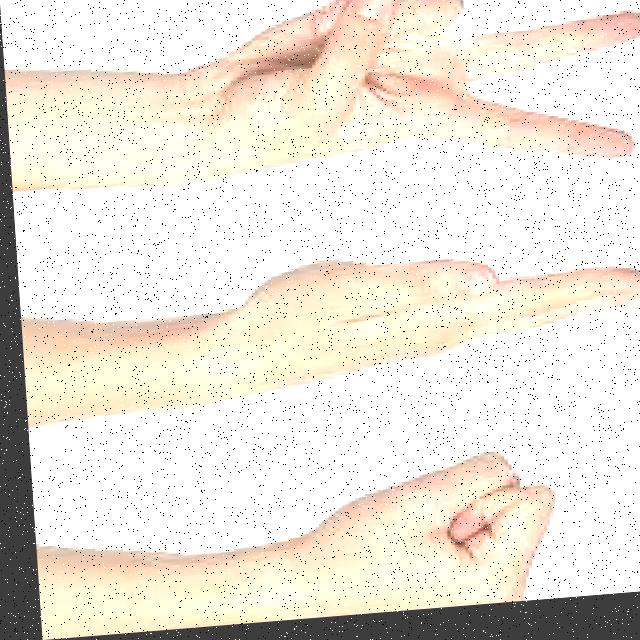paper: (162, 221, 640, 424)
rock: (276, 438, 598, 624)
scirssors: (141, 0, 640, 224)
